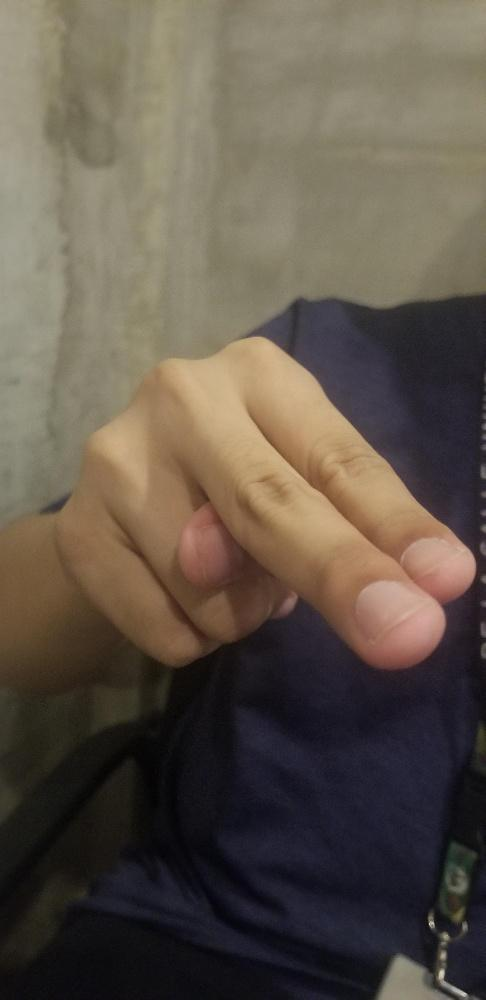n: (66, 329, 475, 671)
